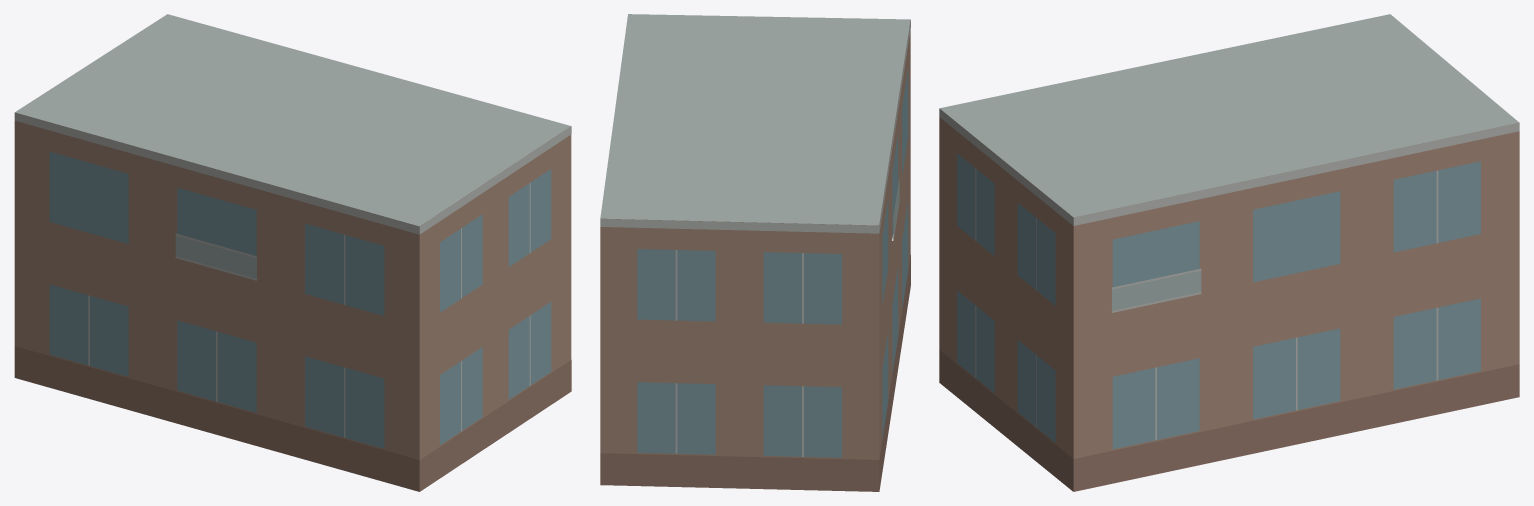
Rendered from survey-upis-32748730.glb.
3 renders of one model, left to right at view 1: azimuth 30°, elevation 25°; view 2: azimuth 150°, elevation 25°; view 3: azimuth 270°, elevation 25°, orthographic. The views are drawn at different scales.
Visible parts, largest first — view 1: survey-upis-32748730.tmp; view 2: survey-upis-32748730.tmp; view 3: survey-upis-32748730.tmp.
Part boxes in pixels (bbox=[...]): survey-upis-32748730.tmp: bbox=[14, 14, 571, 491]; survey-upis-32748730.tmp: bbox=[600, 14, 910, 491]; survey-upis-32748730.tmp: bbox=[939, 14, 1519, 491].
Size of the model in its own units: 12.5 by 7.85 by 15.06.
